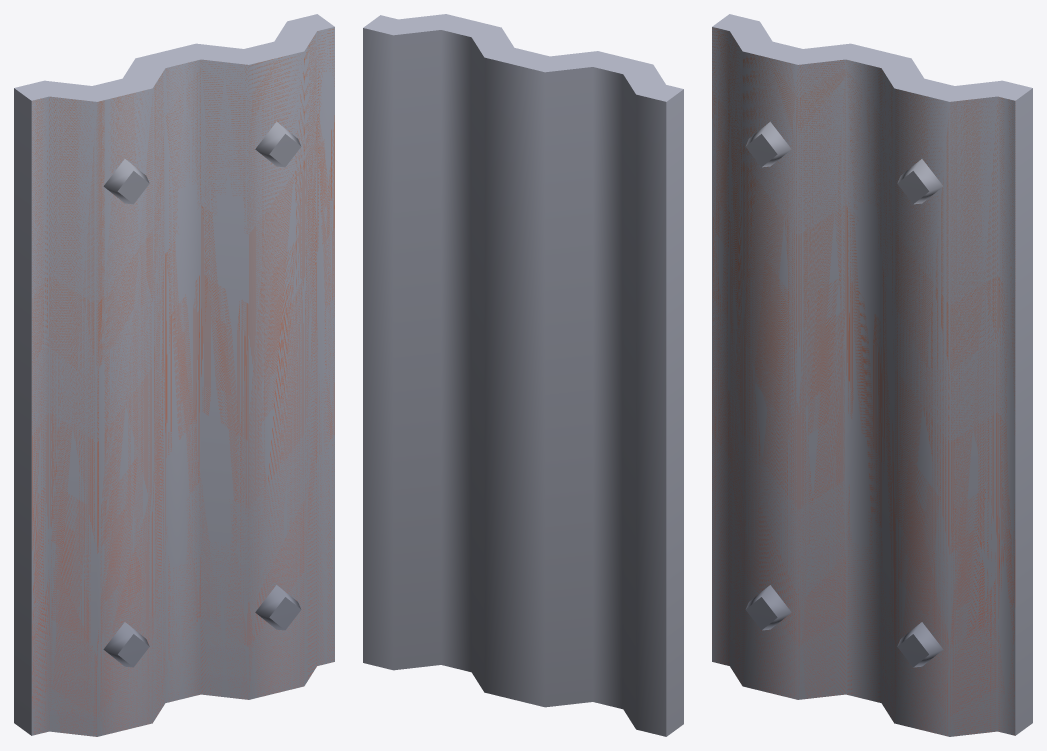
The model's file is metal-panel-screws-narrow.glb.
3 renders of one model, left to right at view 1: azimuth 30°, elevation 25°; view 2: azimuth 150°, elevation 25°; view 3: azimuth 330°, elevation 25°, orthographic.
Parts seen in each view (by area): view 1: metal-panel-screws-narrow; view 2: metal-panel-screws-narrow; view 3: metal-panel-screws-narrow.
Part boxes in pixels (x1=…): metal-panel-screws-narrow: x1=14, y1=14, x2=334, y2=736; metal-panel-screws-narrow: x1=363, y1=14, x2=683, y2=736; metal-panel-screws-narrow: x1=712, y1=14, x2=1032, y2=736.
Size of the model in its own units: 0.25 by 0.5 by 0.0625.
